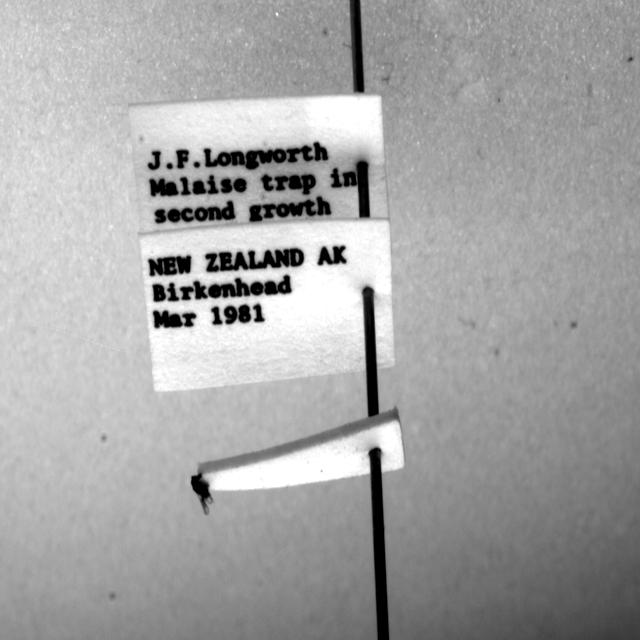typed_label: (140, 219, 395, 392), (129, 94, 389, 234)
